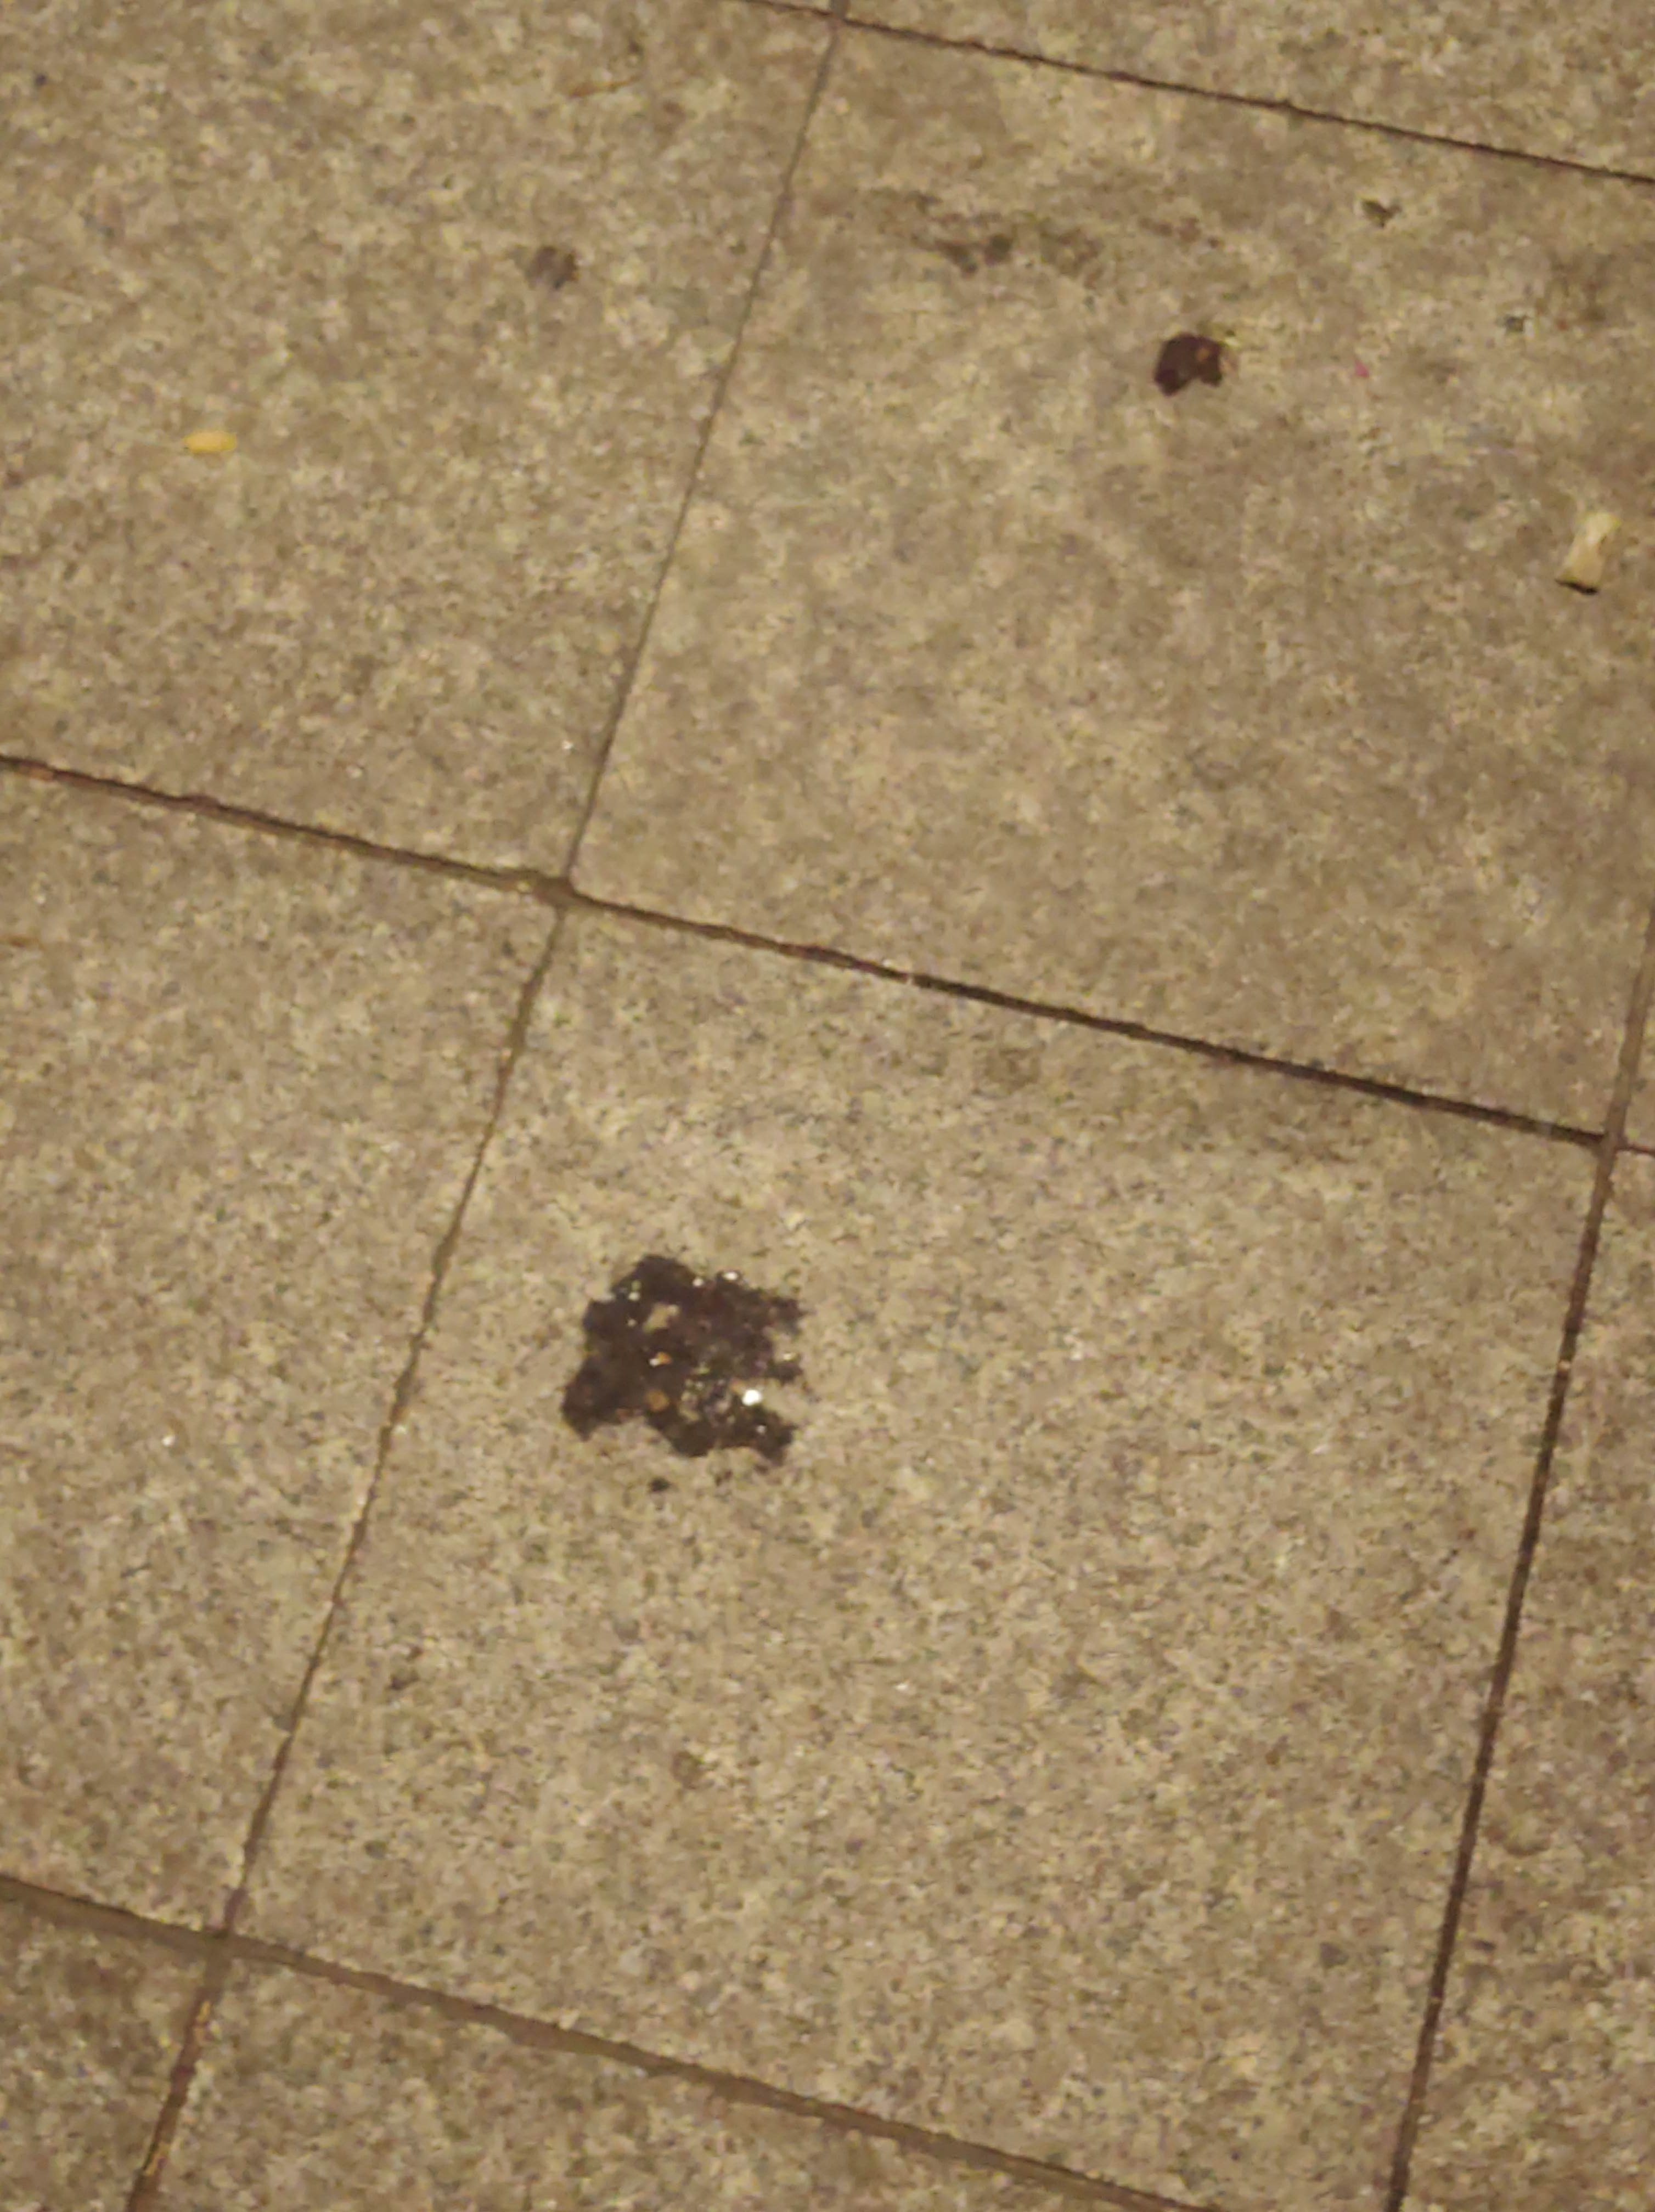grey spot: (555, 1251, 803, 1461), (1153, 330, 1229, 389)
